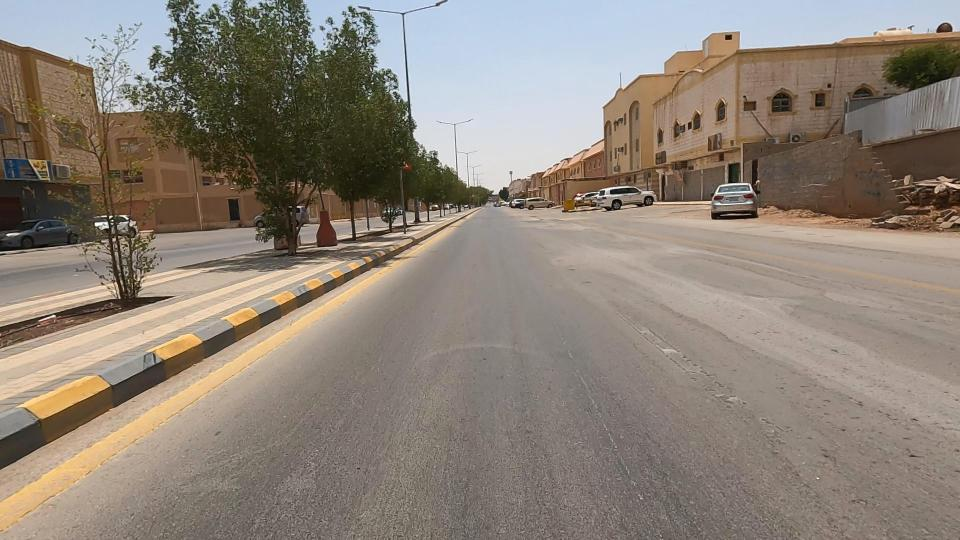GARBAGE: (827, 147, 960, 213), (830, 183, 960, 248)
